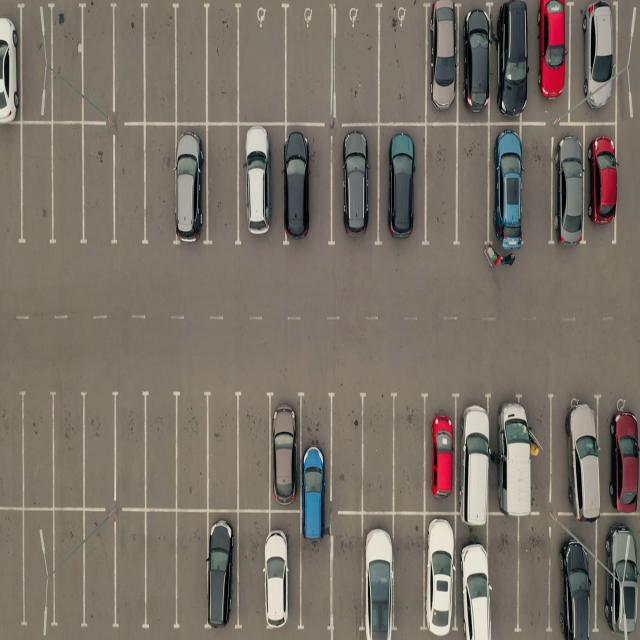space-empty: (286, 6, 337, 124), (376, 3, 425, 125), (238, 5, 288, 123), (332, 5, 379, 125), (14, 124, 54, 248), (46, 512, 88, 630), (204, 5, 242, 124), (142, 5, 180, 124), (46, 2, 84, 121), (518, 513, 556, 632), (114, 391, 152, 508), (175, 4, 212, 124), (176, 393, 214, 509), (78, 391, 116, 507), (205, 125, 242, 244), (457, 125, 493, 247), (328, 395, 366, 510), (78, 129, 115, 247), (17, 511, 54, 629), (112, 129, 149, 247), (79, 512, 116, 629), (17, 394, 54, 511), (50, 128, 86, 248), (143, 392, 180, 508), (50, 395, 87, 511), (237, 396, 274, 512), (142, 512, 178, 631), (115, 512, 151, 631), (392, 398, 429, 513), (78, 2, 114, 120), (234, 511, 269, 632), (112, 5, 148, 122), (331, 519, 367, 636), (176, 512, 211, 631), (141, 123, 176, 242), (205, 394, 241, 509), (358, 396, 394, 511), (423, 125, 457, 246), (15, 4, 50, 120), (394, 514, 427, 636), (296, 517, 331, 630), (487, 516, 519, 636), (524, 129, 554, 248), (0, 509, 24, 630), (0, 386, 24, 506), (0, 124, 23, 248)
space-occupied: (490, 395, 539, 518), (552, 394, 601, 516), (282, 128, 330, 247), (332, 128, 379, 246), (572, 2, 618, 121), (382, 125, 427, 244), (552, 518, 597, 636), (240, 124, 283, 245), (458, 392, 499, 514), (532, 0, 572, 119), (601, 518, 640, 636), (602, 400, 640, 518), (458, 514, 494, 638), (493, 2, 530, 122), (424, 5, 461, 124), (422, 514, 457, 638), (422, 393, 458, 512), (264, 509, 299, 631), (488, 125, 522, 248), (552, 126, 588, 242), (267, 393, 302, 509), (176, 128, 210, 247), (297, 397, 331, 514), (362, 514, 394, 638), (205, 510, 237, 630), (462, 6, 494, 124), (584, 126, 615, 236), (0, 5, 21, 123)
